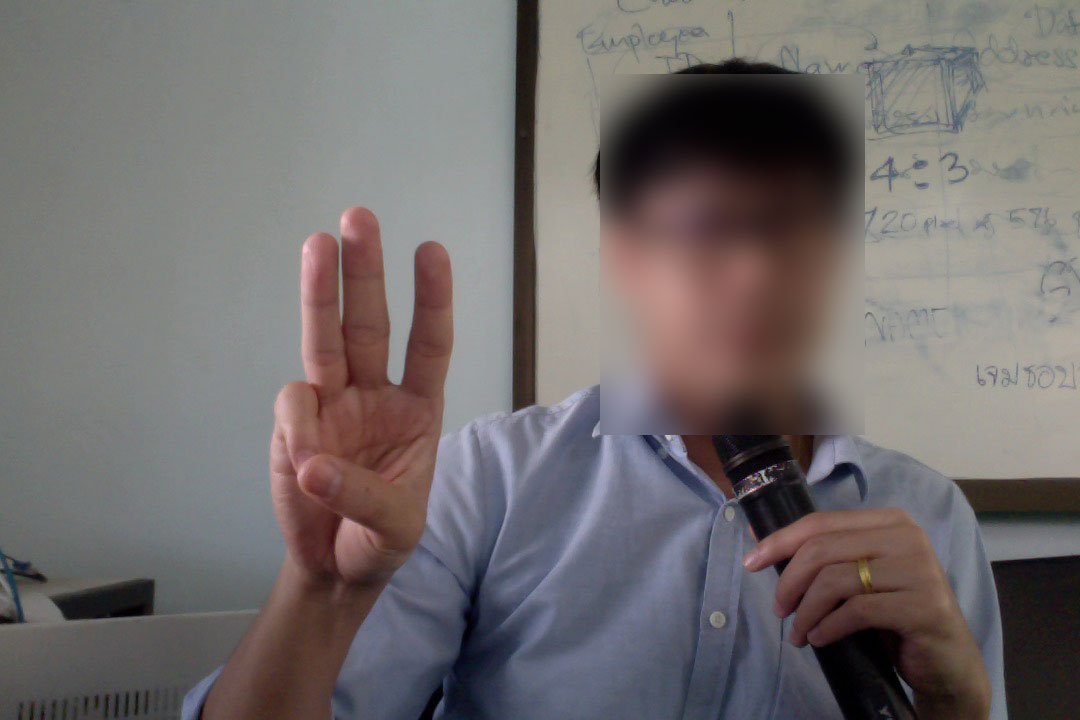wor: (255, 187, 468, 598)
